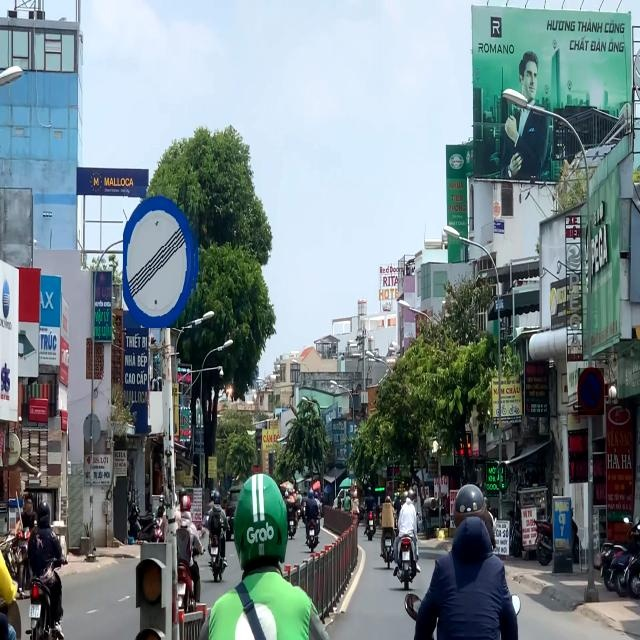bien_cam: (123, 186, 200, 328), (578, 368, 604, 415)
